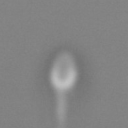normal: (45, 91, 79, 128)
